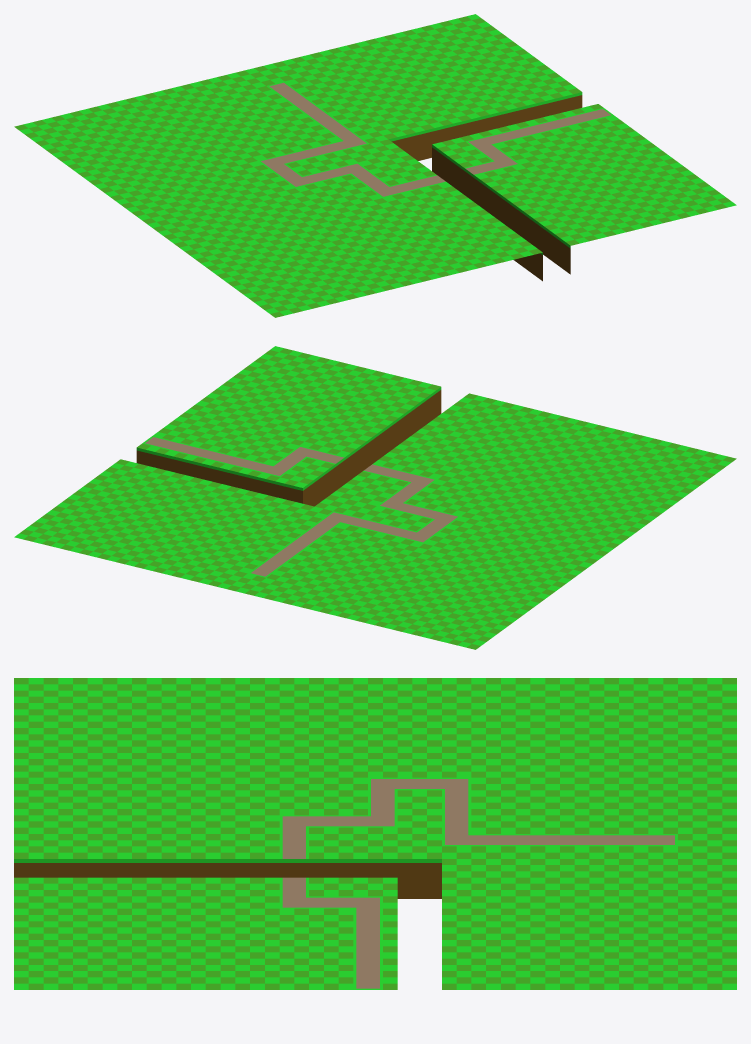
Rendered from Map 02 - 3.fbx.
3 renders of one model, top to bottom at view 1: azimuth 30°, elevation 25°; view 2: azimuth 150°, elevation 25°; view 3: azimuth 270°, elevation 25°, orthographic. The views are drawn at different scales.
Visible parts, largest first — view 1: Plane.023, Plane.024; view 2: Plane.023, Plane.024; view 3: Plane.023, Plane.024.
Part boxes in pixels (x1,y1,x2,y2): Plane.023: (14,14,736,317); Plane.024: (261,82,610,196); Plane.023: (14,346,736,649); Plane.024: (145,437,457,576); Plane.023: (14,678,736,989); Plane.024: (282,779,674,988).
Size of the model in its own units: 500 by 30 by 490.
